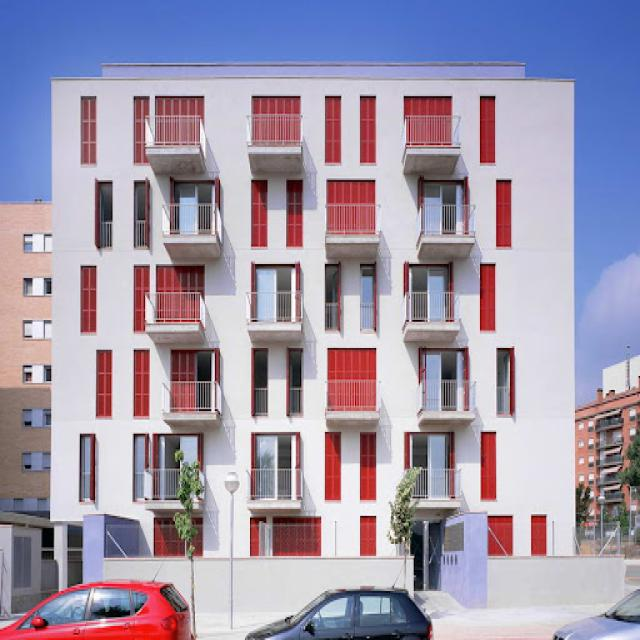window: (159, 435, 205, 502), (412, 439, 453, 498), (255, 439, 294, 498), (258, 268, 298, 320), (408, 271, 447, 320), (428, 358, 462, 414), (428, 187, 468, 234), (179, 189, 211, 232)
